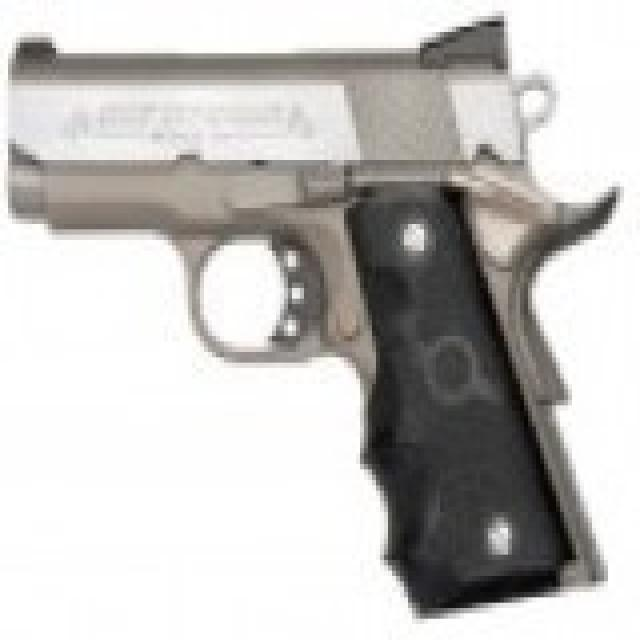Gun: (6, 11, 613, 593)
